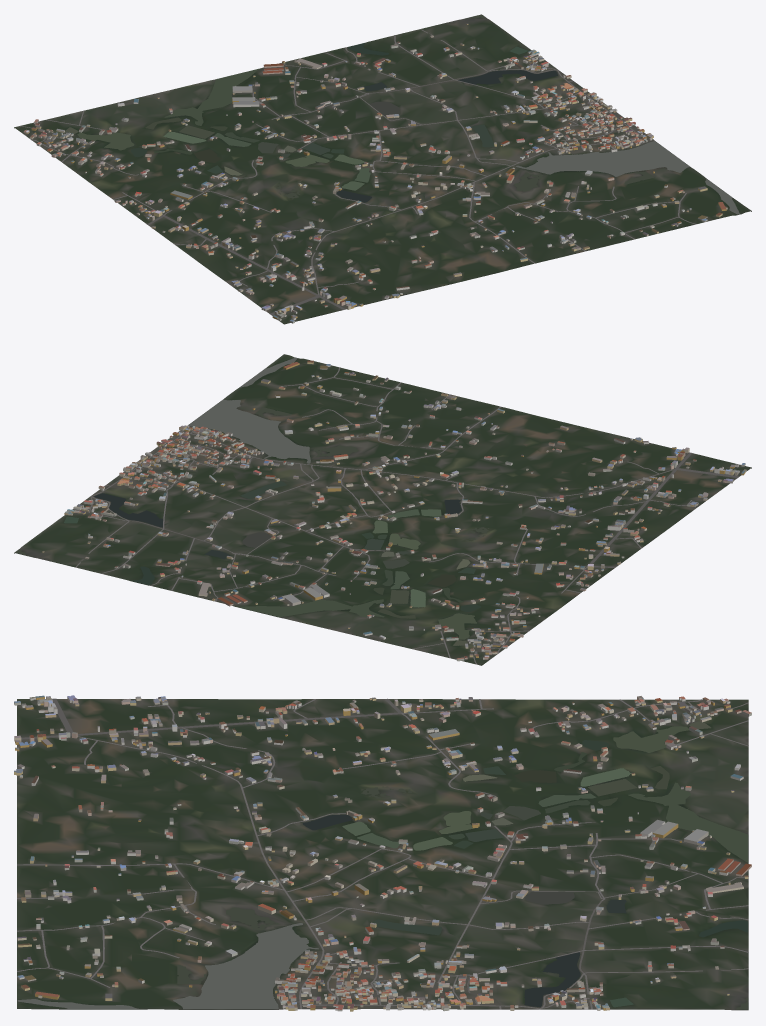
The picture shows the model from 3 angles, top to bottom: view 1: azimuth 30°, elevation 25°; view 2: azimuth 150°, elevation 25°; view 3: azimuth 270°, elevation 25°; orthographic projection. The views are drawn at different scales.
Visible parts, largest first — view 1: ground, buildings, water, roads; view 2: ground, buildings, water, roads; view 3: ground, buildings, water, roads.
Part boxes in pixels (left/top/right/bottom): ground: left=14, top=15, right=751, bottom=324; buildings: left=23, top=23, right=727, bottom=323; water: left=64, top=14, right=739, bottom=214; roads: left=19, top=29, right=696, bottom=315; ground: left=14, top=354, right=751, bottom=665; buildings: left=42, top=360, right=746, bottom=661; water: left=15, top=357, right=489, bottom=645; roads: left=73, top=367, right=738, bottom=664; ground: left=17, top=699, right=748, bottom=1010; buildings: left=14, top=695, right=751, bottom=1011; water: left=17, top=721, right=747, bottom=1009; roads: left=17, top=698, right=748, bottom=1009.
Bounding box in the file's own units: 1418 × 17.74 × 1414.
